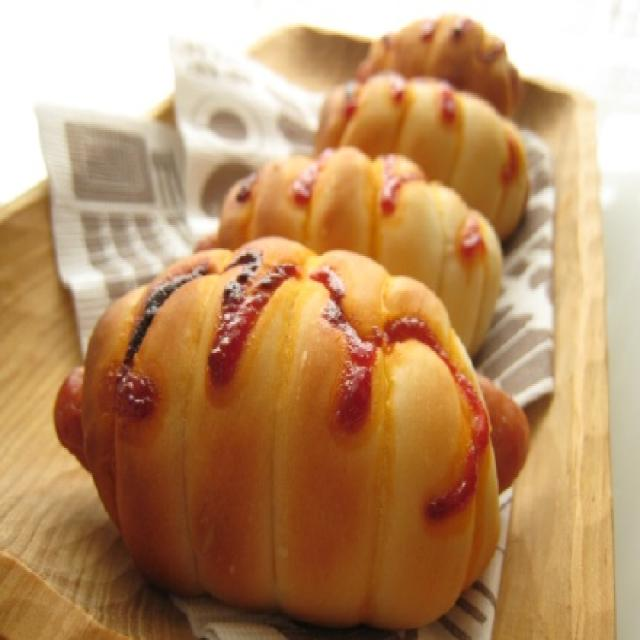三明治: (35, 229, 538, 619)
